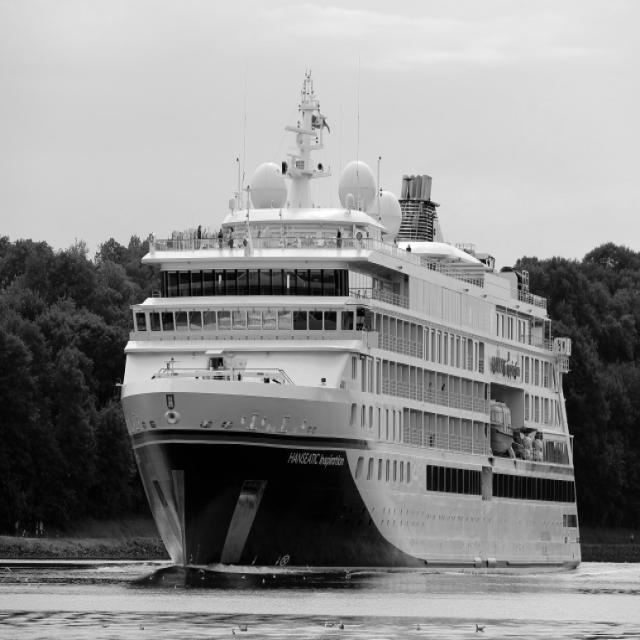cruises: (119, 74, 587, 579)
